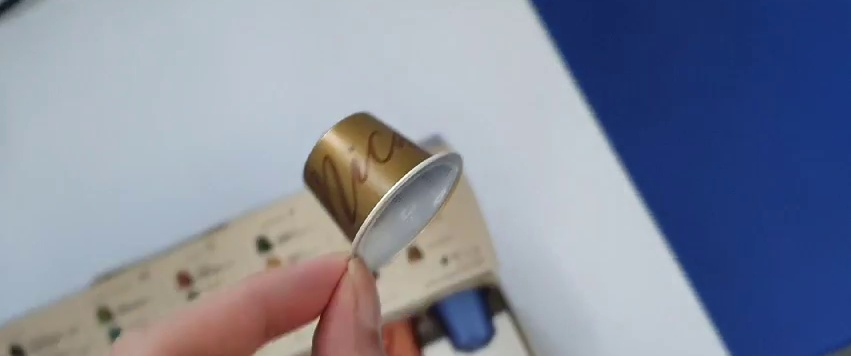capsule_9: (300, 109, 466, 275)
